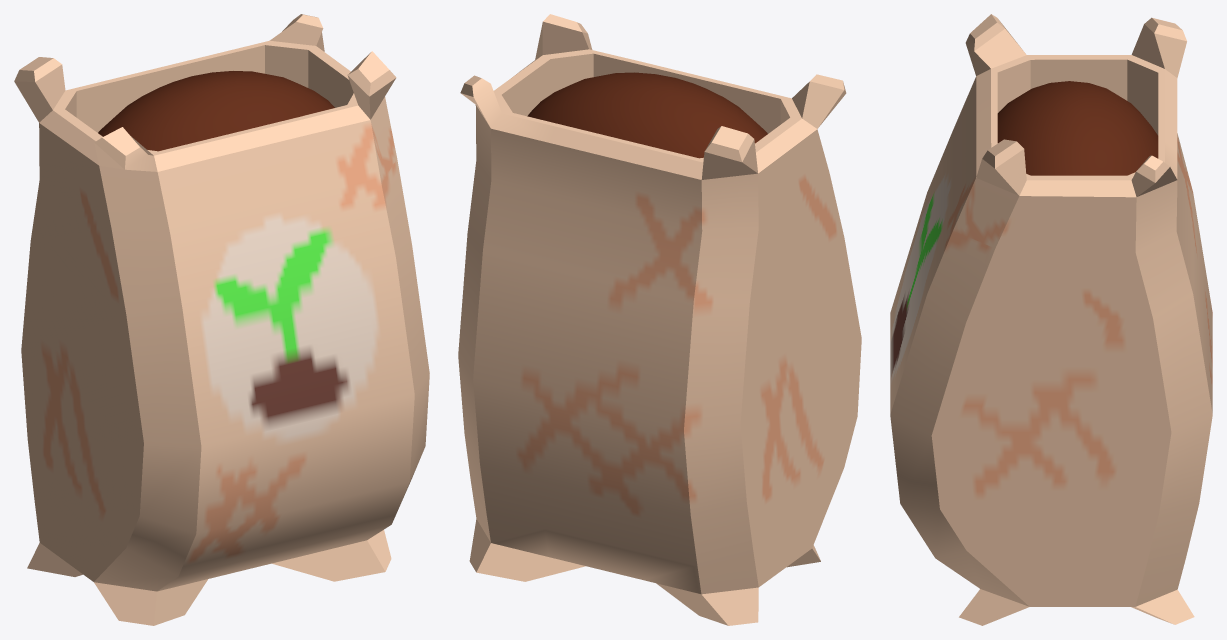
Rendered from fertilizer.fbx.
The picture shows the model from 3 angles, left to right: view 1: azimuth 30°, elevation 25°; view 2: azimuth 150°, elevation 25°; view 3: azimuth 270°, elevation 25°; orthographic projection. The views are drawn at different scales.
Visible parts, largest first — view 1: pCube1, pSphere1; view 2: pCube1, pSphere1; view 3: pCube1, pSphere1.
Boxes of the visible parts, left/top/right/bottom form: pCube1: left=14, top=14, right=429, bottom=625; pSphere1: left=98, top=71, right=334, bottom=151; pCube1: left=458, top=14, right=861, bottom=625; pSphere1: left=527, top=72, right=767, bottom=158; pCube1: left=890, top=14, right=1212, bottom=625; pSphere1: left=997, top=81, right=1158, bottom=175.
Bounding box in the file's own units: 1.74 × 2.74 × 1.61.
2 materials, 2 textured.
